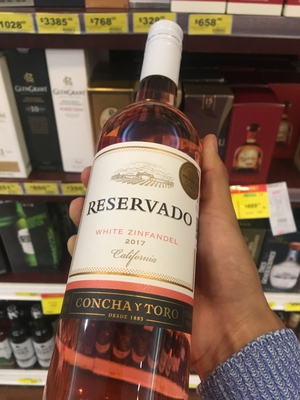reservado white zinfandel: (69, 10, 197, 399)
